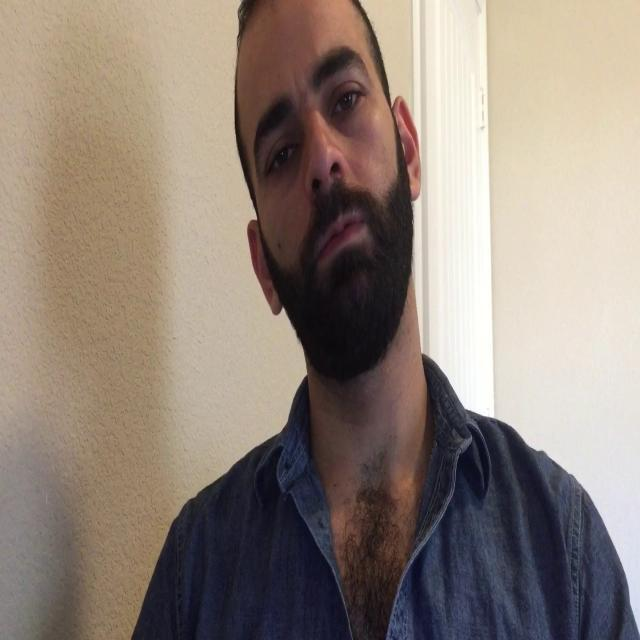open: (315, 44, 374, 146), (251, 90, 302, 193)
